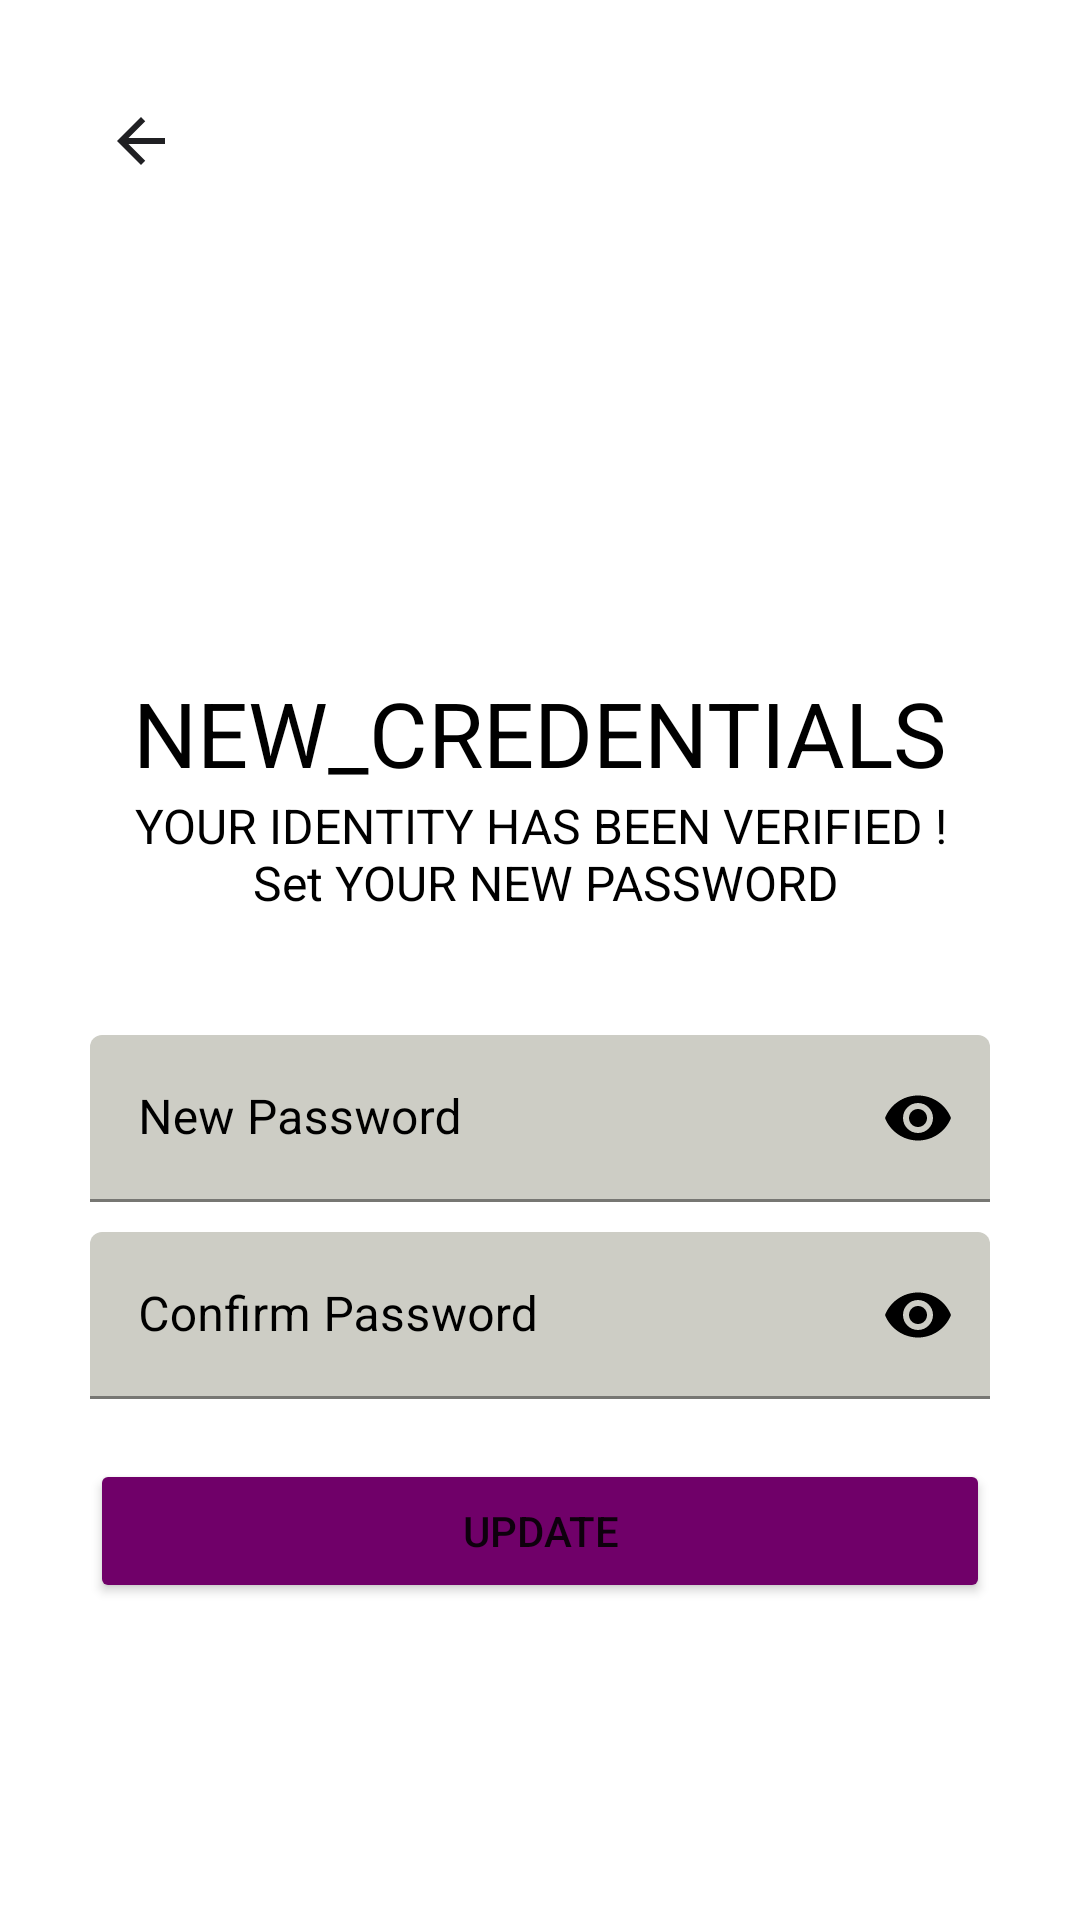

Icons on this 1080x1920 Android screen, each with the point to tap as (x=x, y=y):
arrow back: (x=141, y=141)
